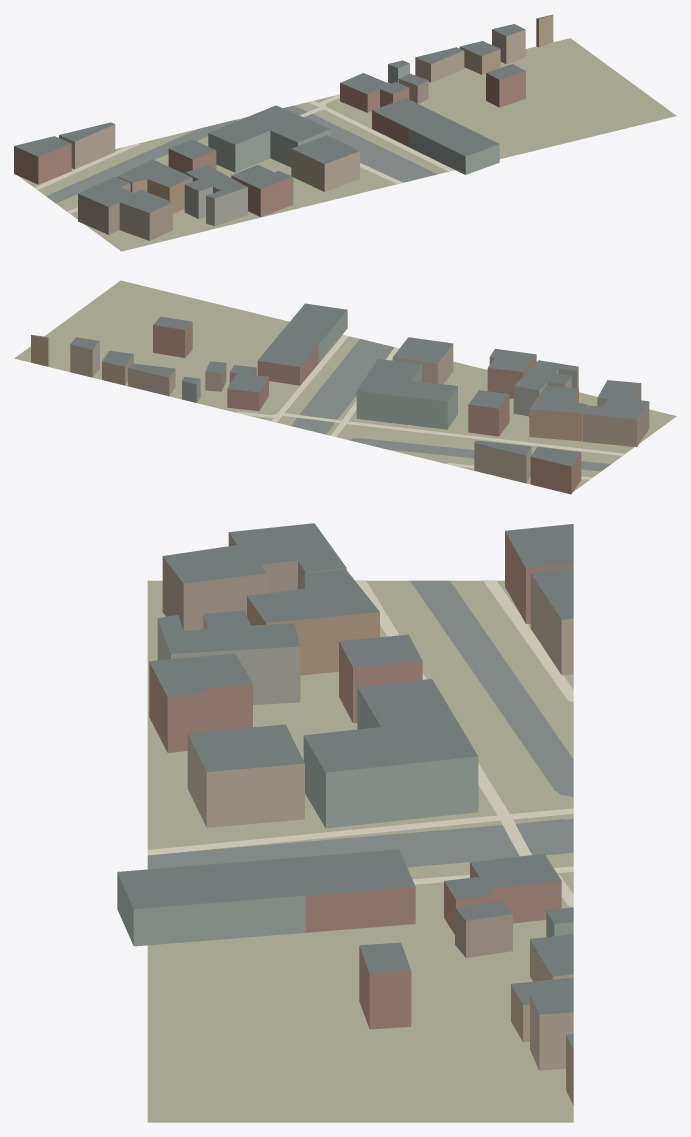
The model's file is sector-0_-8.glb.
The picture shows the model from 3 angles, top to bottom: view 1: azimuth 30°, elevation 25°; view 2: azimuth 150°, elevation 25°; view 3: azimuth 270°, elevation 25°; orthographic projection. The views are drawn at different scales.
Parts seen in each view (by area): view 1: 0:-8-facade, 0:-8-ground, 0:-8-roof, 0:-8-road, 0:-8-paving; view 2: 0:-8-ground, 0:-8-facade, 0:-8-roof, 0:-8-road, 0:-8-paving; view 3: 0:-8-ground, 0:-8-facade, 0:-8-roof, 0:-8-road, 0:-8-paving.
Boxes of the visible parts, x1,y1,x2,y2 form: 0:-8-facade: (14, 14, 553, 240); 0:-8-ground: (18, 38, 676, 251); 0:-8-roof: (14, 14, 551, 212); 0:-8-road: (46, 105, 437, 203); 0:-8-paving: (34, 94, 454, 213); 0:-8-ground: (14, 280, 676, 491); 0:-8-facade: (31, 310, 649, 494); 0:-8-roof: (33, 303, 648, 466); 0:-8-road: (291, 339, 610, 471); 0:-8-paving: (236, 334, 624, 479); 0:-8-ground: (147, 580, 573, 1122); 0:-8-facade: (117, 531, 573, 1105); 0:-8-roof: (117, 523, 573, 1049); 0:-8-road: (147, 580, 573, 869); 0:-8-paving: (147, 580, 573, 906).
Bounding box in the file's own units: 201 × 9.6 × 71.17.
